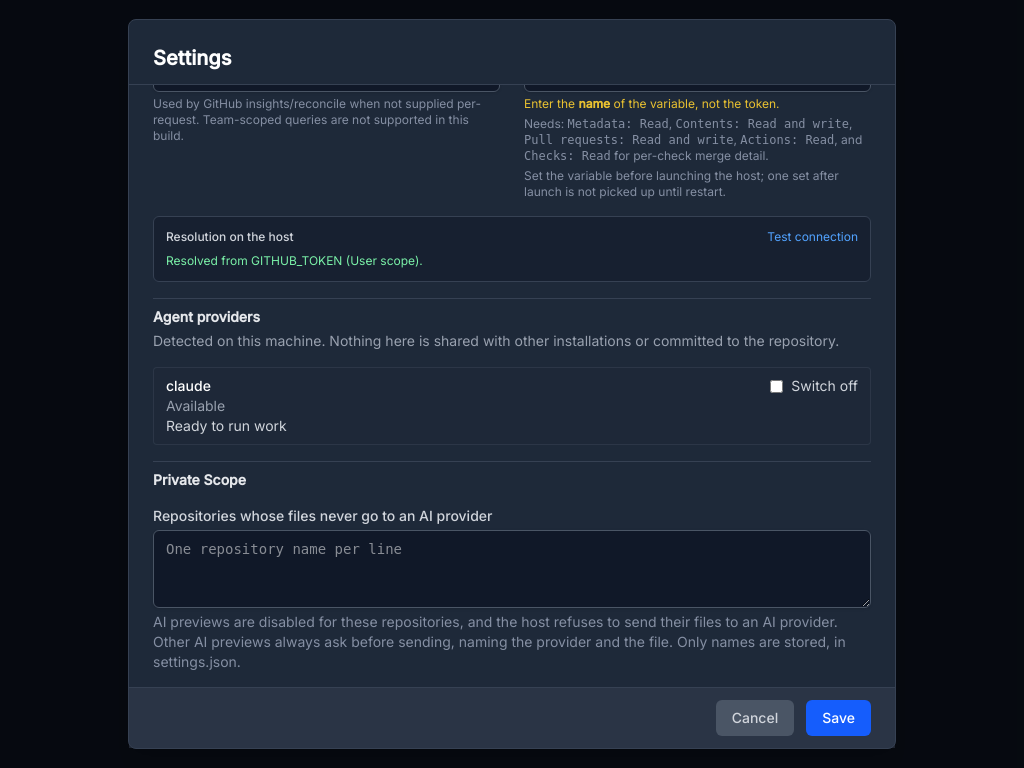
Test: SettingsModal — agent providers (H38-19b) › switches a provider off through the installation state, and re-reads it
The image size is (1024, 768).
(page scrolled)
Click the checkbox with test id "provider-optout-claude".
click(777, 386)  # box [770, 380, 783, 393]
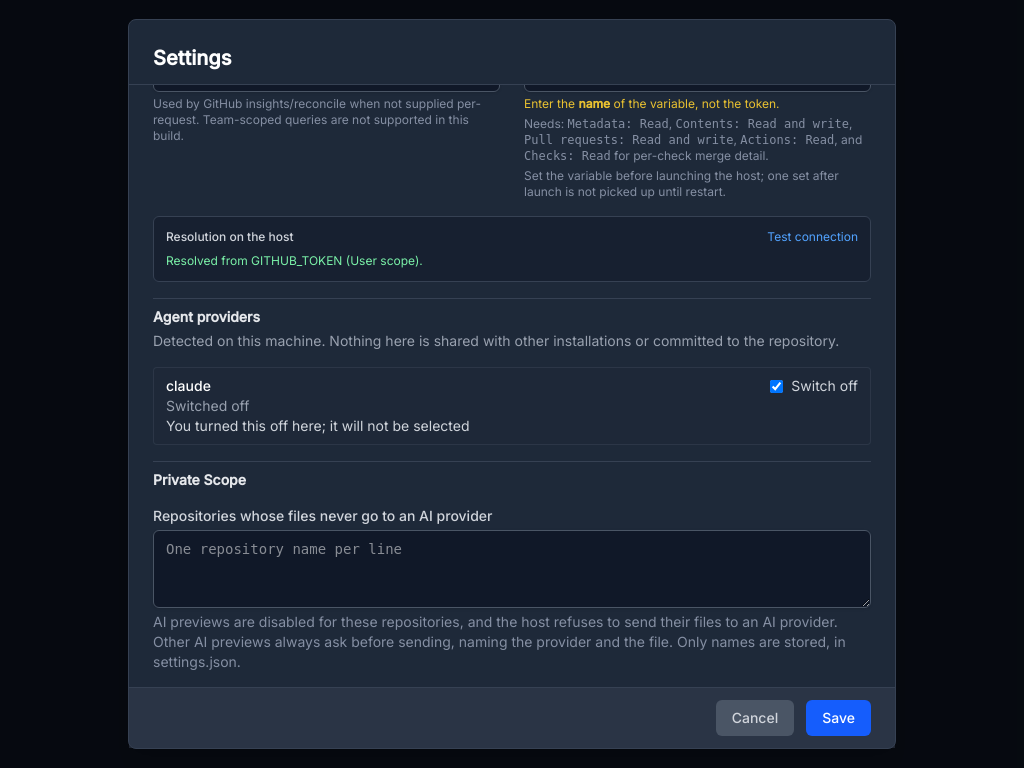
Expected: the text "You turned this off here; it will not be selected" is shown, [166, 417, 470, 434]
